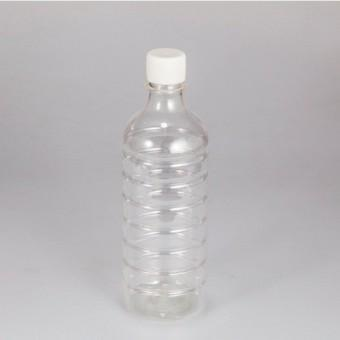bottle: (119, 47, 212, 319)
